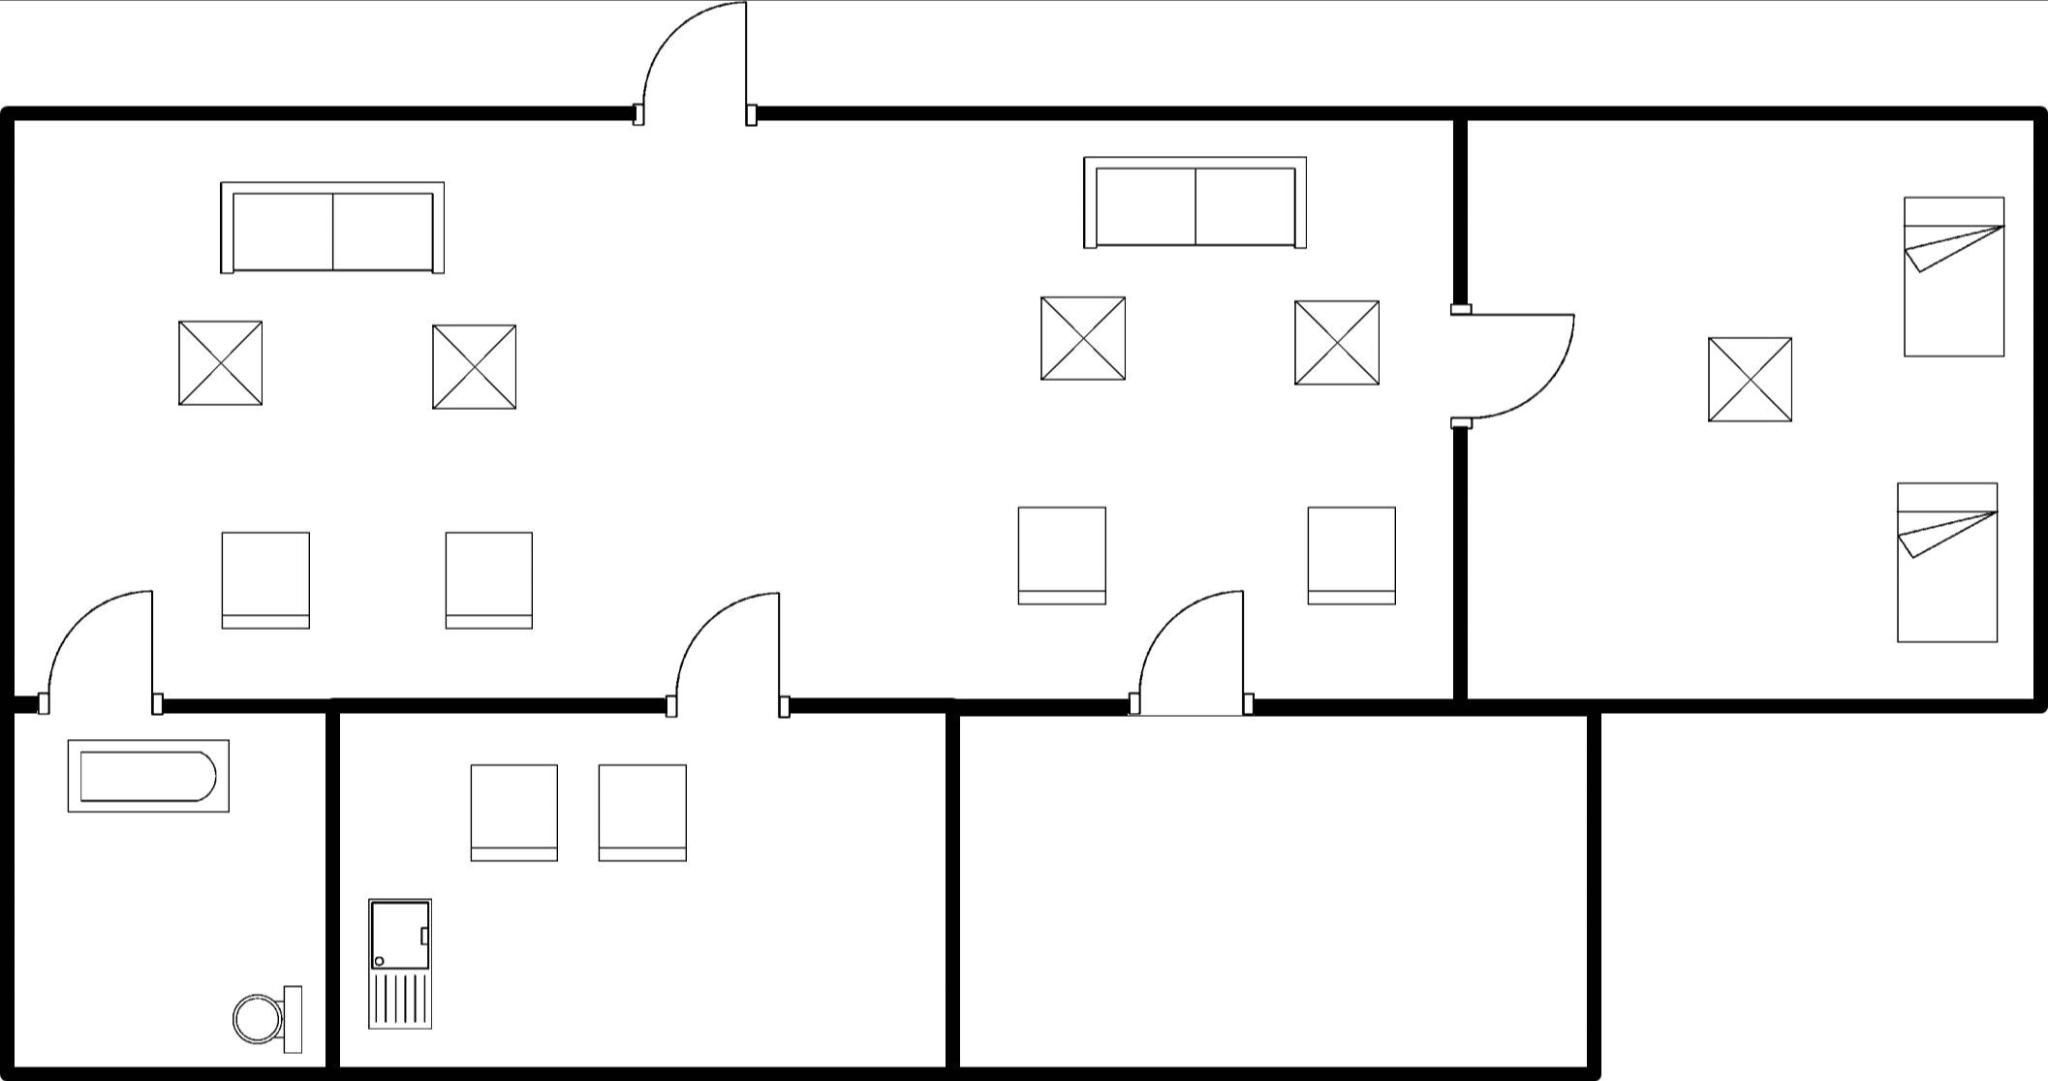bed: (1884, 469, 2010, 652), (1895, 187, 2014, 368)
sink: (356, 889, 442, 1038)
sofa: (207, 173, 452, 287), (1069, 148, 1314, 257)
toilet: (223, 975, 312, 1062)
tub: (57, 727, 240, 826)
